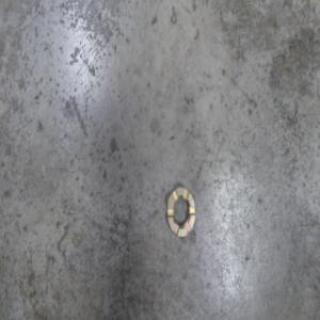Nuttrack_idkeyframe: (165, 181, 196, 240)
